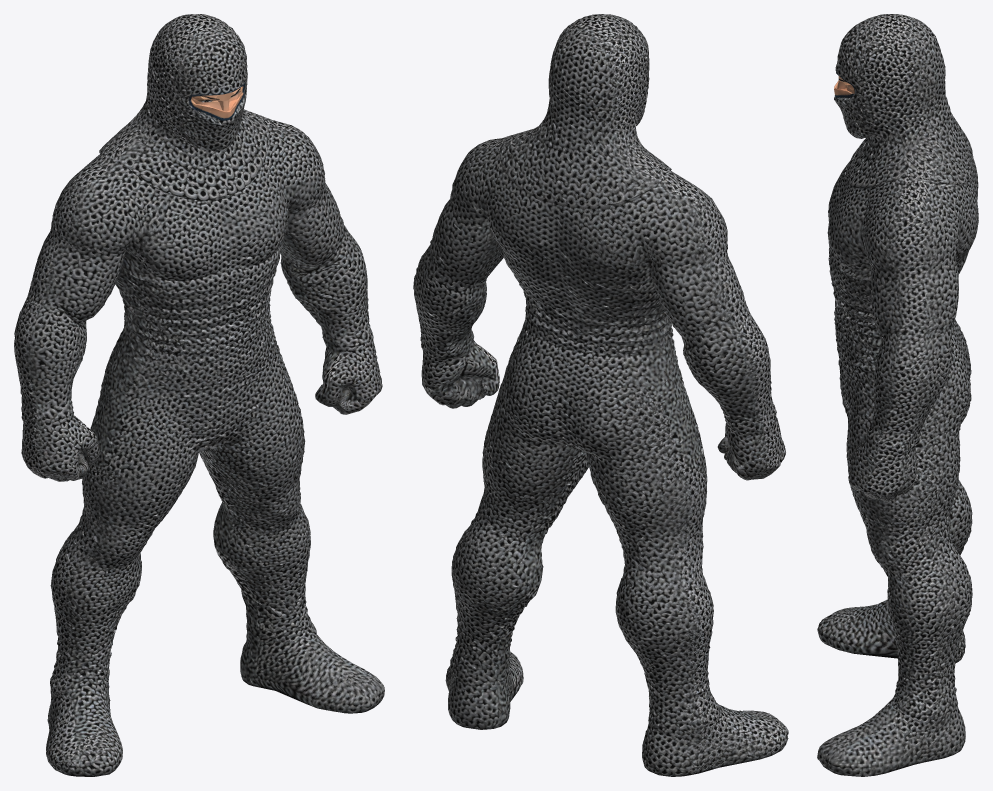
File: Meshy_AI_chainmail_base_body_3_1104033109_texture.glb
3 views of the same model, side by side, from view 1: azimuth 30°, elevation 25°; view 2: azimuth 150°, elevation 25°; view 3: azimuth 270°, elevation 25° (orthographic). The views are drawn at different scales.
Visible parts, largest first — view 1: output_unwrapped; view 2: output_unwrapped; view 3: output_unwrapped.
Boxes of the visible parts, x1,y1,x2,y2 form: output_unwrapped: (14, 14, 384, 776); output_unwrapped: (413, 14, 788, 776); output_unwrapped: (817, 14, 978, 776).
Bounding box in the file's own units: 0.9923 × 1.9 × 0.4081.
1 material, 1 textured.
